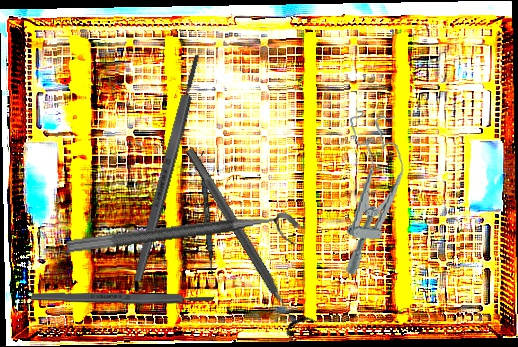Fixation Ring: (174, 140, 317, 340), (65, 209, 304, 274)
Scalpel Handle: (130, 51, 205, 285), (31, 290, 214, 306)
Spatula Surgical: (196, 150, 218, 277)
Speculum: (333, 107, 410, 279)
